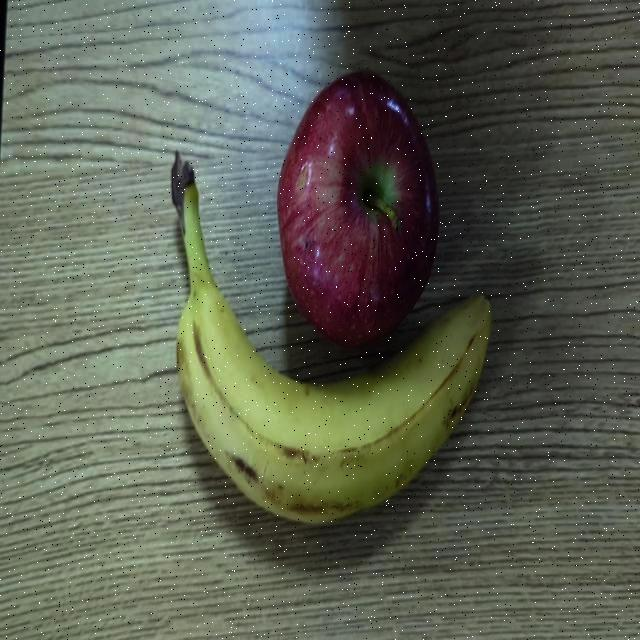Apel Merah: (272, 66, 437, 333)
Pisang: (165, 172, 494, 548)
